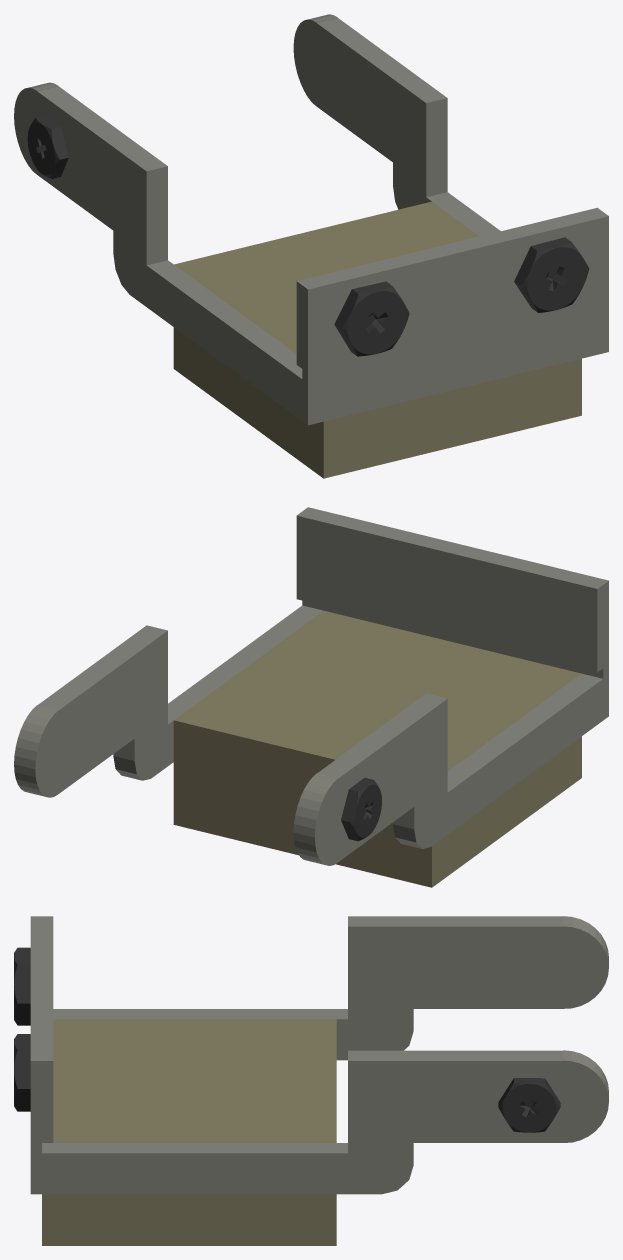
File: Connector.fbx
3 renders of one model, top to bottom at view 1: azimuth 30°, elevation 25°; view 2: azimuth 150°, elevation 25°; view 3: azimuth 270°, elevation 25°, orthographic.
Visible parts, largest first — view 1: Saw.006; view 2: Saw.006; view 3: Saw.006.
Part boxes in pixels (<box>): Saw.006: <box>14,14,608,478</box>; Saw.006: <box>14,507,608,887</box>; Saw.006: <box>14,916,608,1245</box>.
Size of the model in its own units: 3.28 by 1.9 by 5.25.
